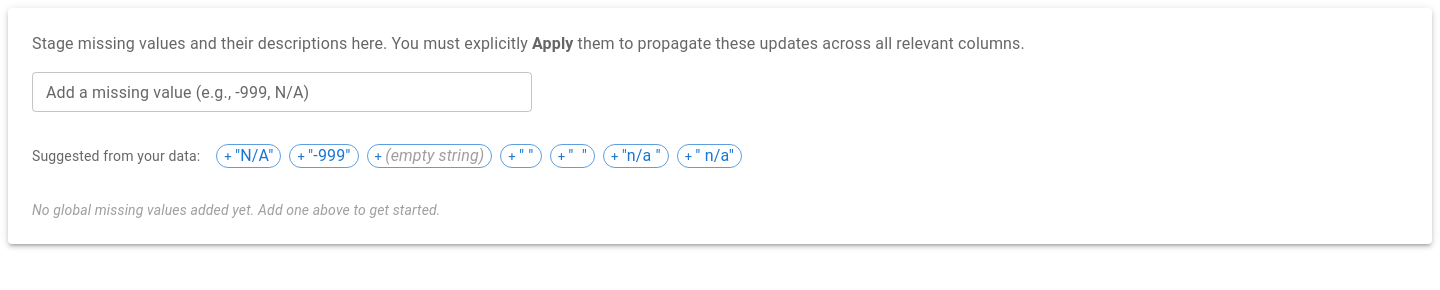
Test: GlobalMissingValues › should display an error if entered value is not in any column
Type "invalid_value" into the field with test id "global-missing-value-input". click: coordinates (282, 92)
box: [32,72,532,112]
Then press Enter
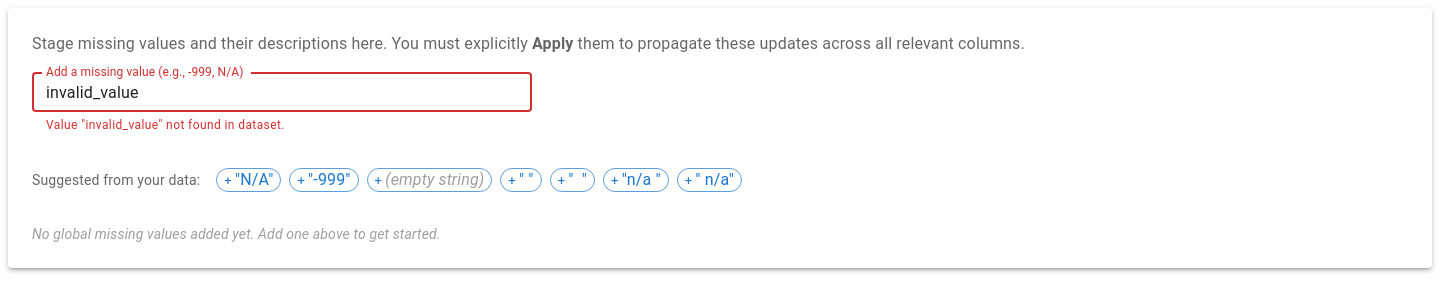
Now the text with test id "global-missing-value-error-text" shows "not found in dataset", box [46,118,285,132]
